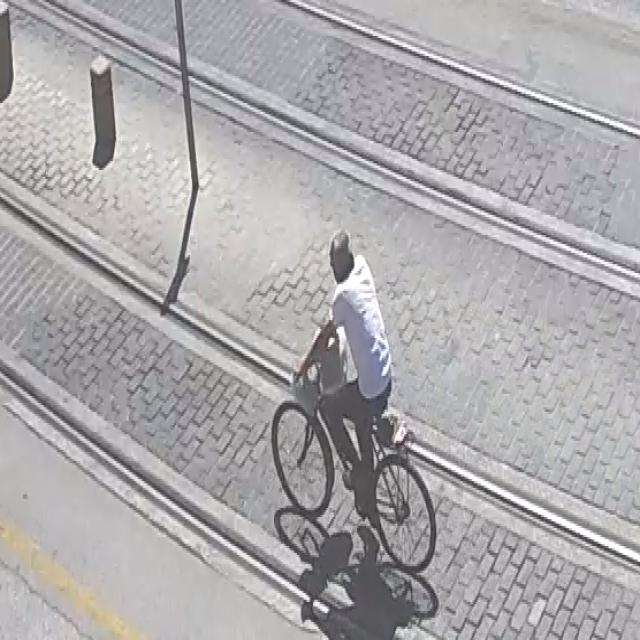Cycle: (192, 210, 497, 602)
